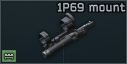KMZ 1P69 Weaver mount: (0, 0, 127, 64)
